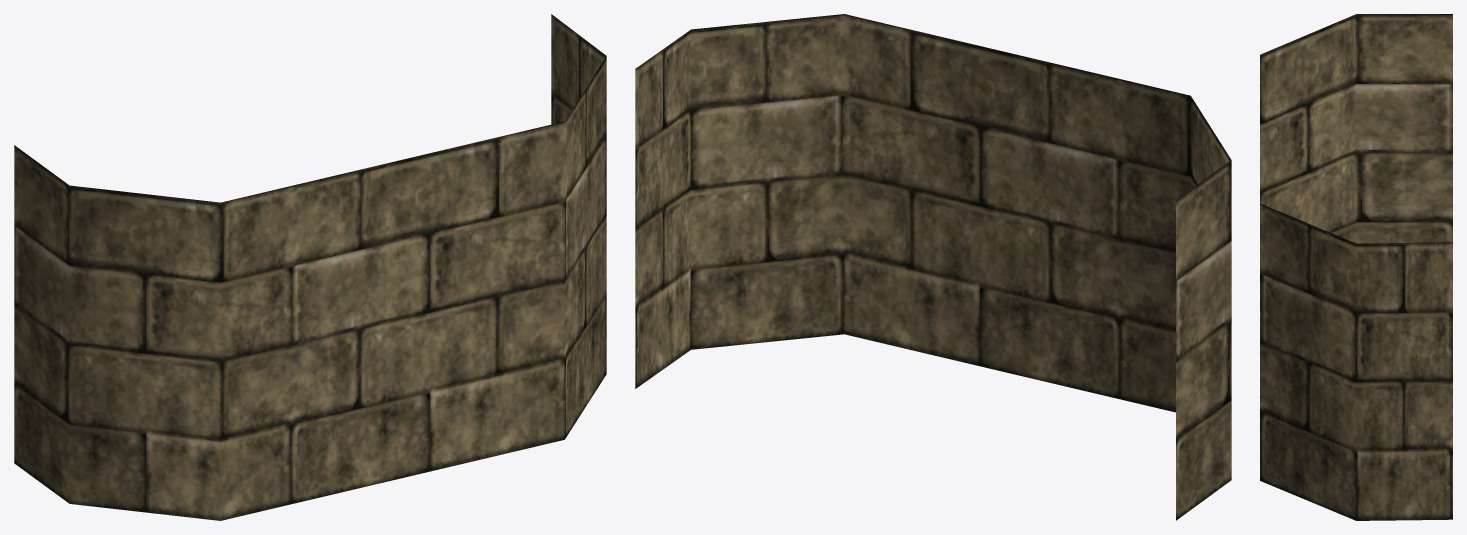
The model's file is OVERHILL_A_01_LINE218.fbx.
3 renders of one model, left to right at view 1: azimuth 30°, elevation 25°; view 2: azimuth 150°, elevation 25°; view 3: azimuth 270°, elevation 25°, orthographic. The views are drawn at different scales.
Visible parts, largest first — view 1: OVERHILL_A_01_LINE218; view 2: OVERHILL_A_01_LINE218; view 3: OVERHILL_A_01_LINE218.
Part boxes in pixels (x1,y1,x2,y2): OVERHILL_A_01_LINE218: [14, 14, 606, 520]; OVERHILL_A_01_LINE218: [635, 14, 1231, 520]; OVERHILL_A_01_LINE218: [1260, 14, 1452, 520].
Bounding box in the file's own units: 56088 × 32053 × 20000.
Materials: 1 (1 with a texture image).
